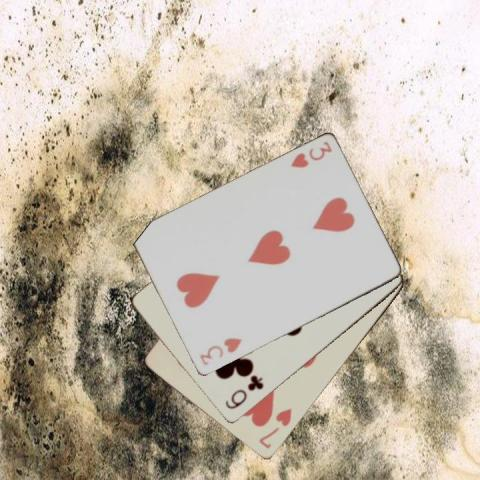3h: (197, 335, 243, 367), (287, 139, 334, 170)
6c: (222, 373, 265, 411)
7h: (256, 405, 293, 451)
